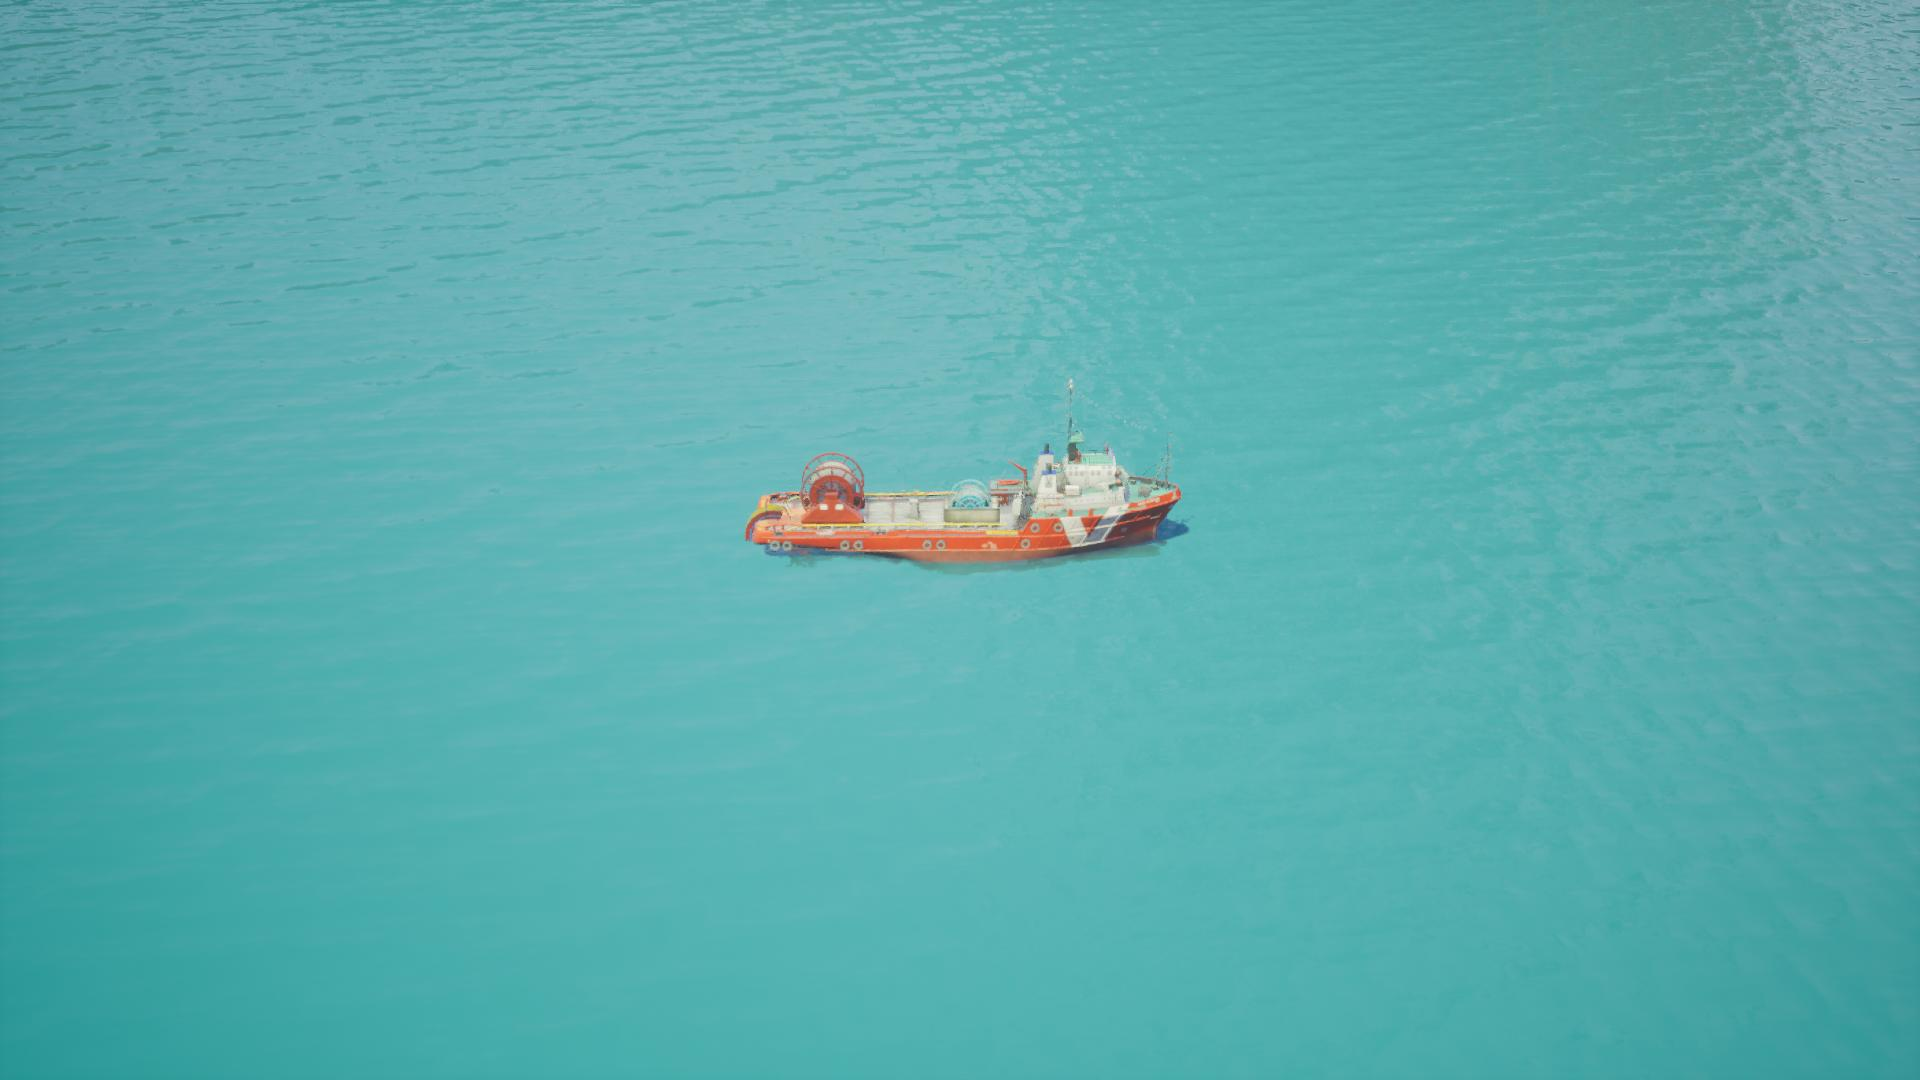Tug Boat: (749, 438, 1184, 564)
